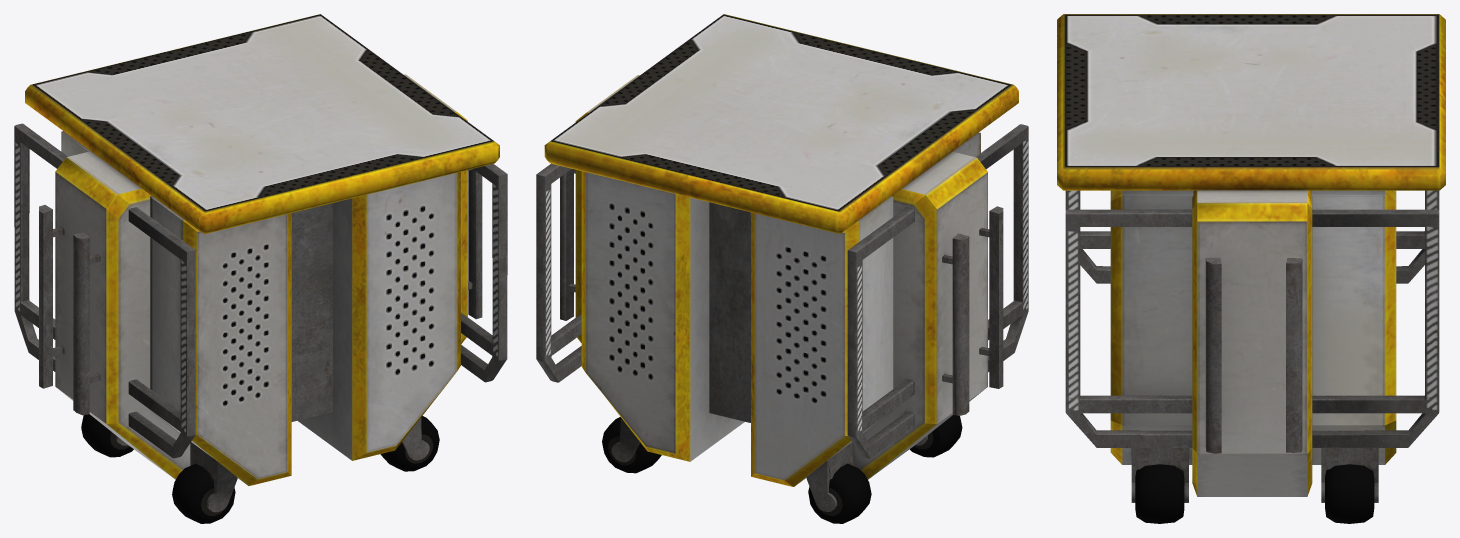
File: 02_06_scan_chamber_table.DAE
The picture shows the model from 3 angles, left to right: view 1: azimuth 30°, elevation 25°; view 2: azimuth 150°, elevation 25°; view 3: azimuth 270°, elevation 25°; orthographic projection. The views are drawn at different scales.
Visible parts, largest first — view 1: Object003; view 2: Object003; view 3: Object003.
Boxes of the visible parts, left/top/right/bottom form: Object003: left=14, top=14, right=507, bottom=523; Object003: left=536, top=14, right=1028, bottom=523; Object003: left=1057, top=14, right=1445, bottom=523.
Size of the model in its own units: 1.58 by 1.3 by 1.22.
